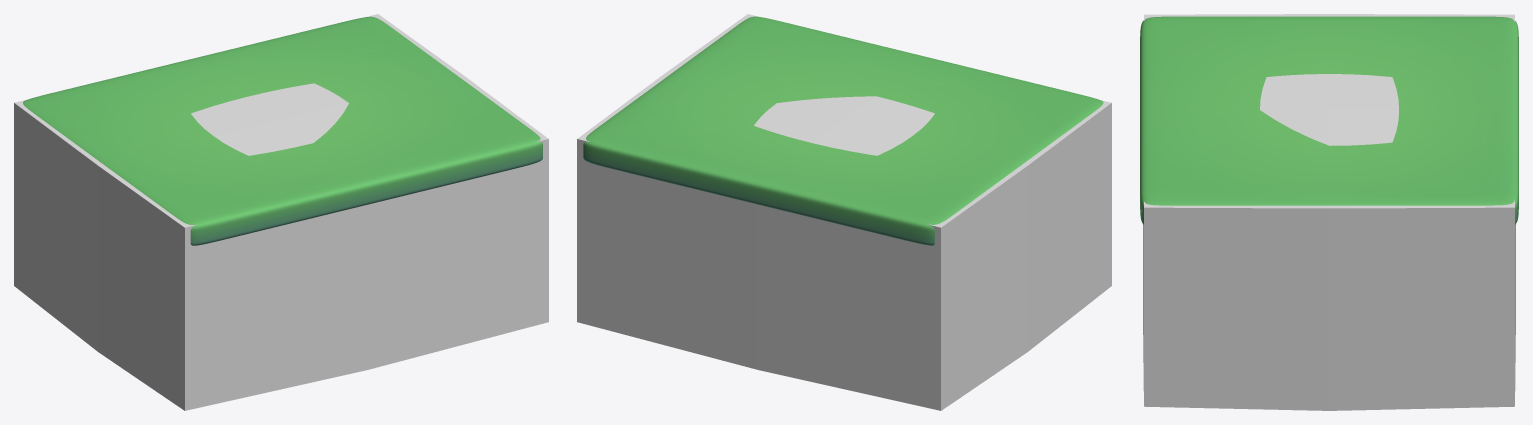
Rendered from PlatformGigaMediumSize.glb.
The picture shows the model from 3 angles, left to right: view 1: azimuth 30°, elevation 25°; view 2: azimuth 150°, elevation 25°; view 3: azimuth 270°, elevation 25°; orthographic projection. The views are drawn at different scales.
Visible parts, largest first — view 1: colision-colonly.021, PlatformGigaMediumSize; view 2: colision-colonly.021, PlatformGigaMediumSize; view 3: colision-colonly.021, PlatformGigaMediumSize.
Boxes of the visible parts, box(x1,y1,x2,y2) form: colision-colonly.021: box(14, 14, 548, 410); PlatformGigaMediumSize: box(23, 16, 542, 245); colision-colonly.021: box(577, 14, 1111, 410); PlatformGigaMediumSize: box(583, 16, 1103, 245); colision-colonly.021: box(1143, 14, 1515, 410); PlatformGigaMediumSize: box(1140, 16, 1518, 224).
Bounding box in the file's own units: 12.15 × 5.96 × 10.
1 material, 1 textured.
